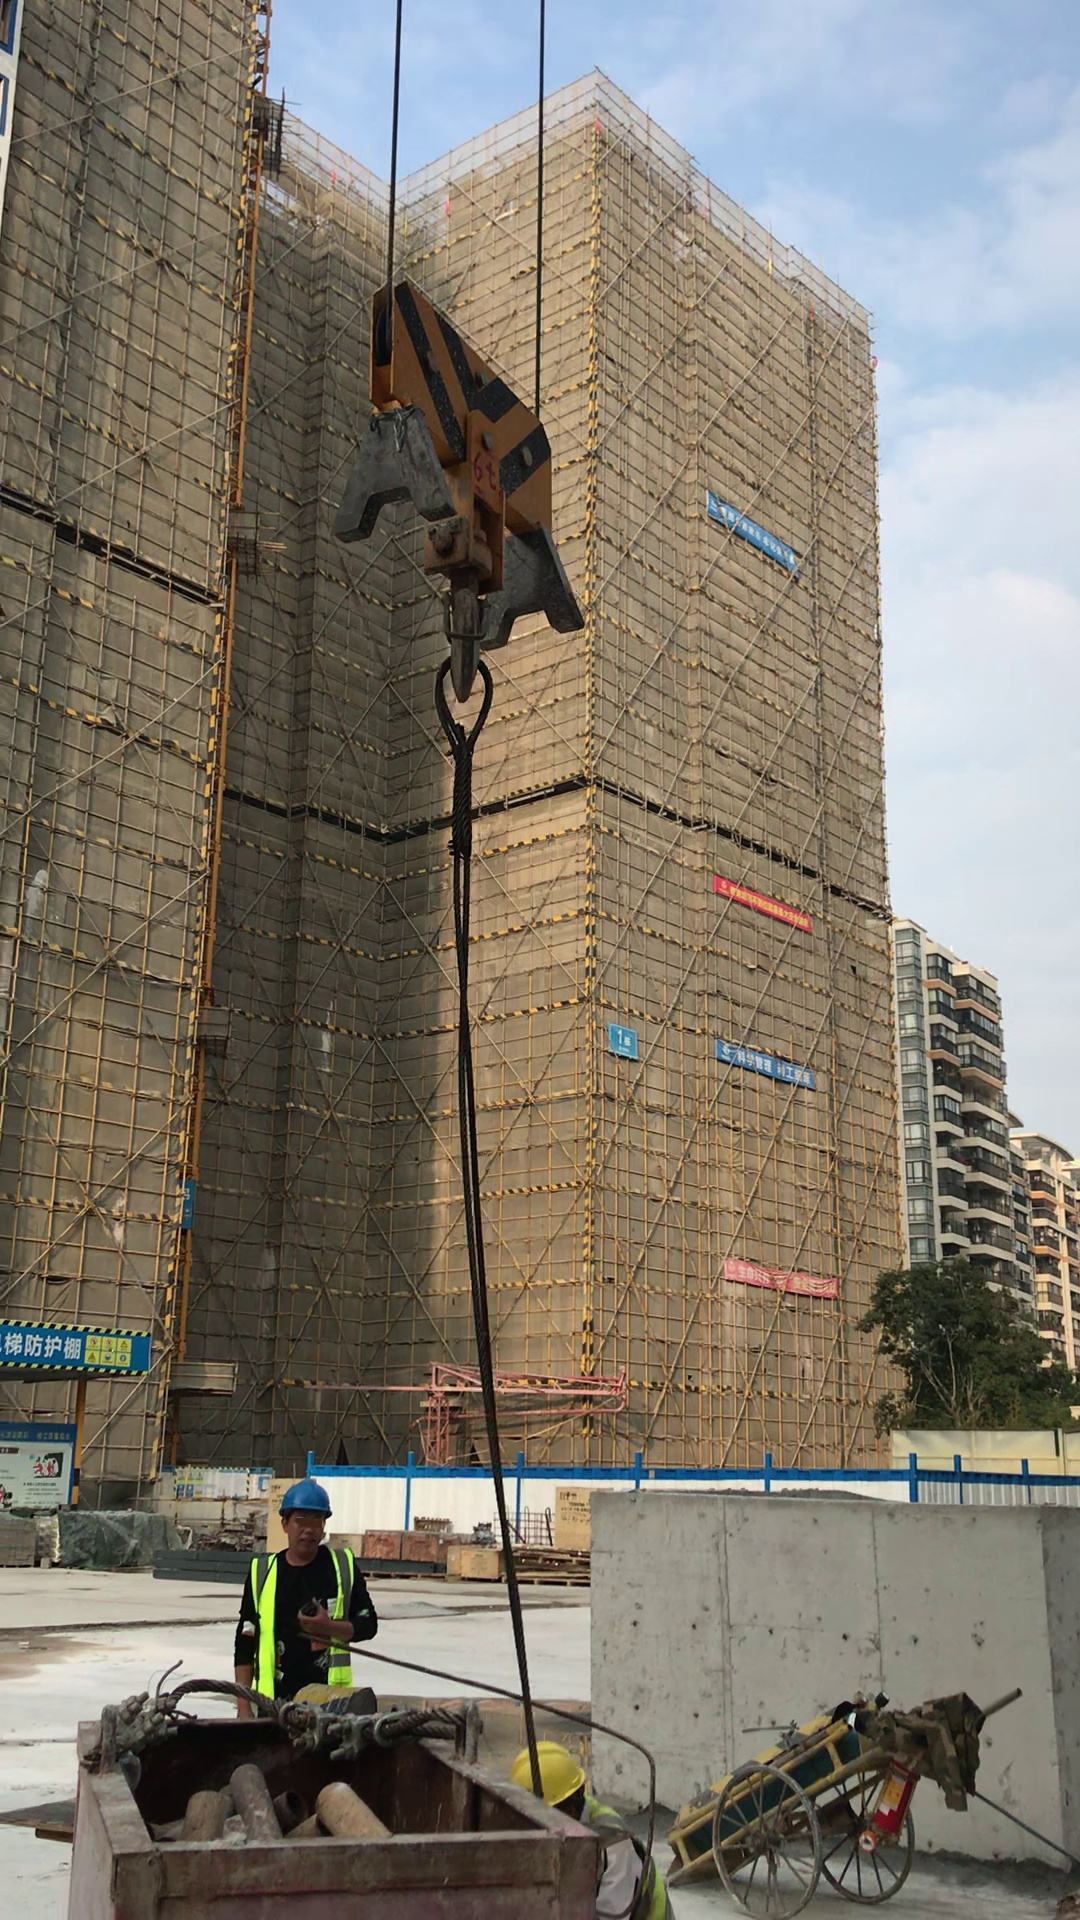helmet: (509, 1734, 586, 1811), (276, 1473, 333, 1515)
hook: (345, 263, 593, 726)
hopper: (68, 1682, 586, 1909)
person: (216, 1457, 396, 1716), (504, 1731, 704, 1920)
slogan: (5, 1318, 160, 1377), (705, 492, 792, 566), (711, 1033, 819, 1090), (712, 874, 812, 934), (721, 1256, 842, 1299)
vest: (246, 1553, 364, 1693)
